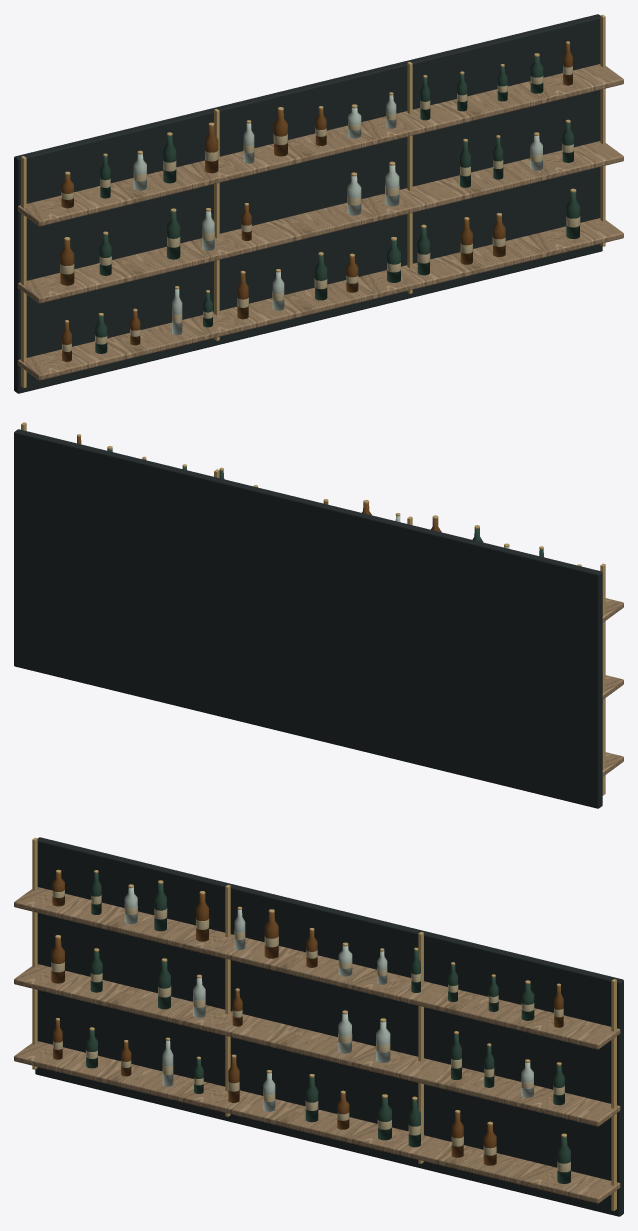
Rendered from modern-bar-shelves.glb.
The picture shows the model from 3 angles, top to bottom: view 1: azimuth 30°, elevation 25°; view 2: azimuth 150°, elevation 25°; view 3: azimuth 330°, elevation 25°; orthographic projection.
Parts seen in each view (by area): view 1: modern-bar-shelves - Modern Bar powder coated charcoal steel, modern-bar-shelves - Modern Bar satin walnut joinery runtime, modern-bar-shelves - Modern Bar green bottle glass runtime P, modern-bar-shelves - Modern Bar brushed champagne brass runt, modern-bar-shelves - Modern Bar amber bottle glass runtime P, modern-bar-shelves - Modern Bar unbranded bottle labels runt, modern-bar-shelves - Modern Bar frosted bottle glass runtime; view 2: modern-bar-shelves - Modern Bar powder coated charcoal steel, modern-bar-shelves - Modern Bar brushed champagne brass runt, modern-bar-shelves - Modern Bar satin walnut joinery runtime; view 3: modern-bar-shelves - Modern Bar powder coated charcoal steel, modern-bar-shelves - Modern Bar satin walnut joinery runtime, modern-bar-shelves - Modern Bar green bottle glass runtime P, modern-bar-shelves - Modern Bar brushed champagne brass runt, modern-bar-shelves - Modern Bar amber bottle glass runtime P, modern-bar-shelves - Modern Bar unbranded bottle labels runt, modern-bar-shelves - Modern Bar frosted bottle glass runtime.
Part boxes in pixels (left/top/right/bottom): modern-bar-shelves - Modern Bar powder coated charcoal steel: left=14, top=14, right=602, bottom=393; modern-bar-shelves - Modern Bar satin walnut joinery runtime: left=17, top=64, right=623, bottom=380; modern-bar-shelves - Modern Bar green bottle glass runtime P: left=95, top=56, right=579, bottom=353; modern-bar-shelves - Modern Bar brushed champagne brass runt: left=21, top=14, right=605, bottom=387; modern-bar-shelves - Modern Bar amber bottle glass runtime P: left=60, top=44, right=572, bottom=361; modern-bar-shelves - Modern Bar unbranded bottle labels runt: left=60, top=66, right=580, bottom=351; modern-bar-shelves - Modern Bar frosted bottle glass runtime: left=133, top=95, right=542, bottom=334; modern-bar-shelves - Modern Bar powder coated charcoal steel: left=14, top=429, right=602, bottom=808; modern-bar-shelves - Modern Bar brushed champagne brass runt: left=21, top=422, right=605, bottom=795; modern-bar-shelves - Modern Bar satin walnut joinery runtime: left=602, top=598, right=623, bottom=776; modern-bar-shelves - Modern Bar powder coated charcoal steel: left=35, top=837, right=623, bottom=1216; modern-bar-shelves - Modern Bar satin walnut joinery runtime: left=14, top=887, right=620, bottom=1203; modern-bar-shelves - Modern Bar green bottle glass runtime P: left=86, top=873, right=570, bottom=1183; modern-bar-shelves - Modern Bar brushed champagne brass runt: left=32, top=837, right=616, bottom=1210; modern-bar-shelves - Modern Bar amber bottle glass runtime P: left=51, top=873, right=563, bottom=1165; modern-bar-shelves - Modern Bar unbranded bottle labels runt: left=51, top=890, right=570, bottom=1172; modern-bar-shelves - Modern Bar frosted bottle glass runtime: left=124, top=887, right=533, bottom=1111.
Size of the model in its own units: 4.85 by 1.89 by 0.3705.
Materials: 8 (1 with a texture image).
